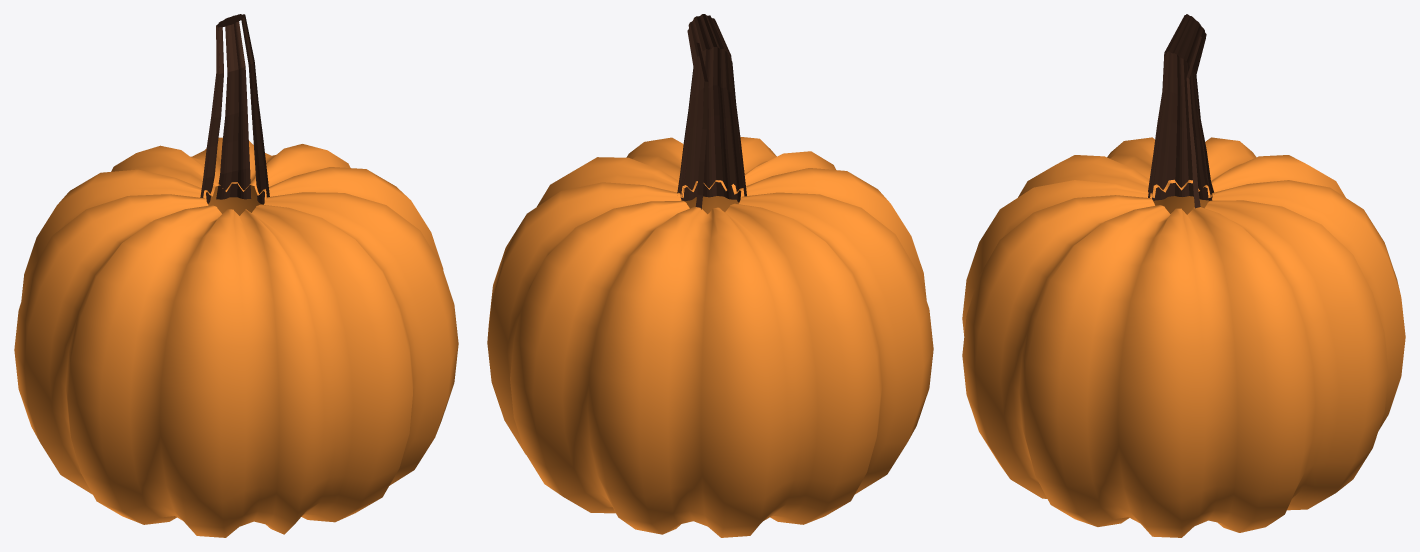
Rendered from abobora.fbx.
The picture shows the model from 3 angles, left to right: view 1: azimuth 30°, elevation 25°; view 2: azimuth 150°, elevation 25°; view 3: azimuth 270°, elevation 25°; orthographic projection.
Visible parts, largest first — view 1: Sphere; view 2: Sphere; view 3: Sphere.
Part boxes in pixels (x1=…): Sphere: x1=14, y1=14, x2=458, y2=537; Sphere: x1=487, y1=14, x2=933, y2=537; Sphere: x1=962, y1=14, x2=1405, y2=537.
Size of the model in its own units: 198 by 232 by 198.
